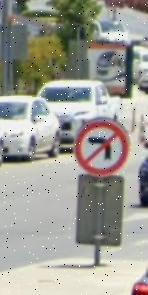leftturnsareforbidden: (76, 122, 128, 173)
